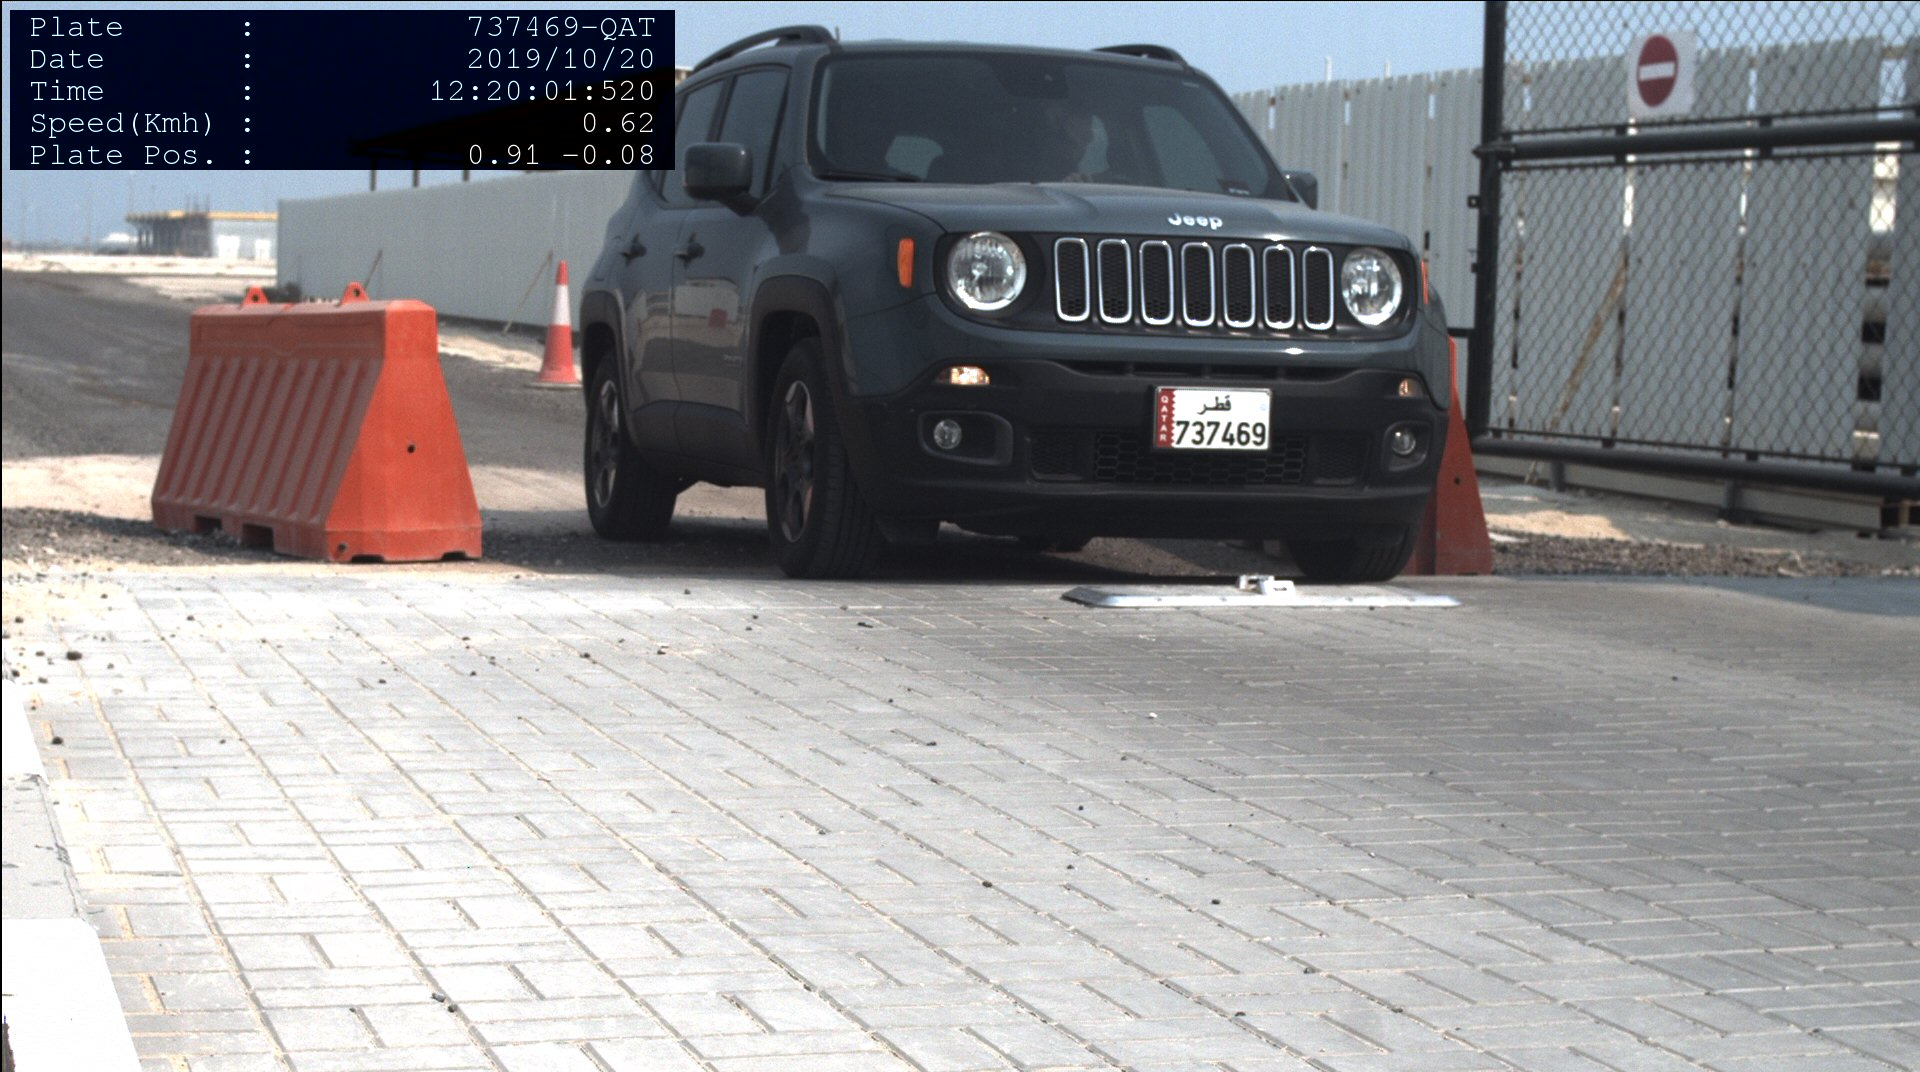License Plate: (1154, 388, 1272, 452)
